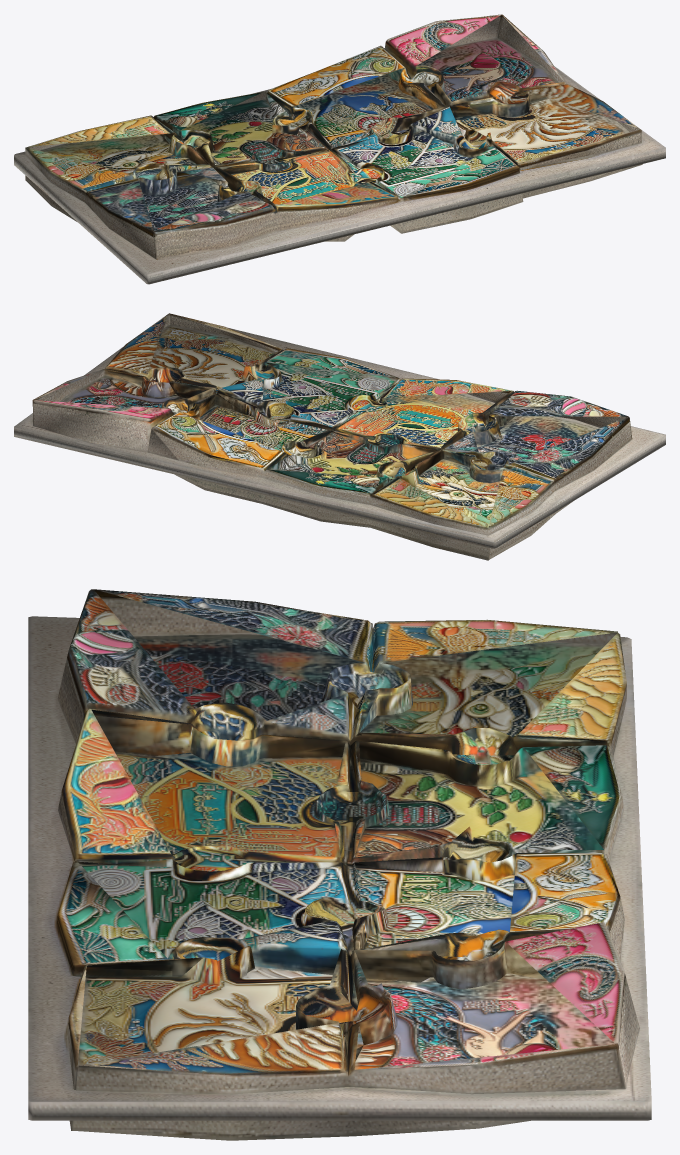
File: 彩色拼图3d模型.glb
3 views of the same model, one above another, from view 1: azimuth 30°, elevation 25°; view 2: azimuth 150°, elevation 25°; view 3: azimuth 270°, elevation 25° (orthographic). The views are drawn at different scales.
Visible parts, largest first — view 1: tripo_node_a19e4cec-1690-4ca2-a262-8374d55eb19e; view 2: tripo_node_a19e4cec-1690-4ca2-a262-8374d55eb19e; view 3: tripo_node_a19e4cec-1690-4ca2-a262-8374d55eb19e.
Part boxes in pixels (x1=…): tripo_node_a19e4cec-1690-4ca2-a262-8374d55eb19e: x1=14, y1=14, x2=665, y2=284; tripo_node_a19e4cec-1690-4ca2-a262-8374d55eb19e: x1=14, y1=313, x2=665, y2=560; tripo_node_a19e4cec-1690-4ca2-a262-8374d55eb19e: x1=28, y1=589, x2=651, y2=1140.
Size of the model in its own units: 0.998 by 0.1152 by 0.541.
Materials: 1 (1 with a texture image).
